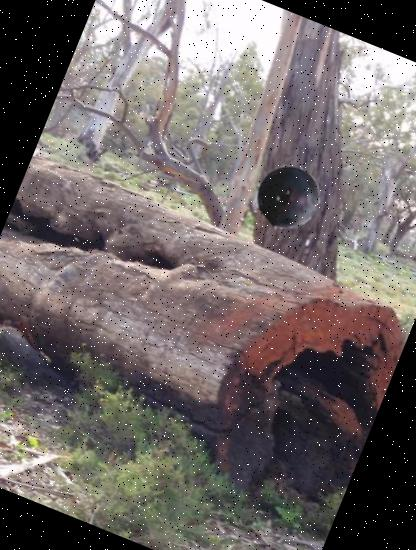Grape: (248, 156, 329, 237)
